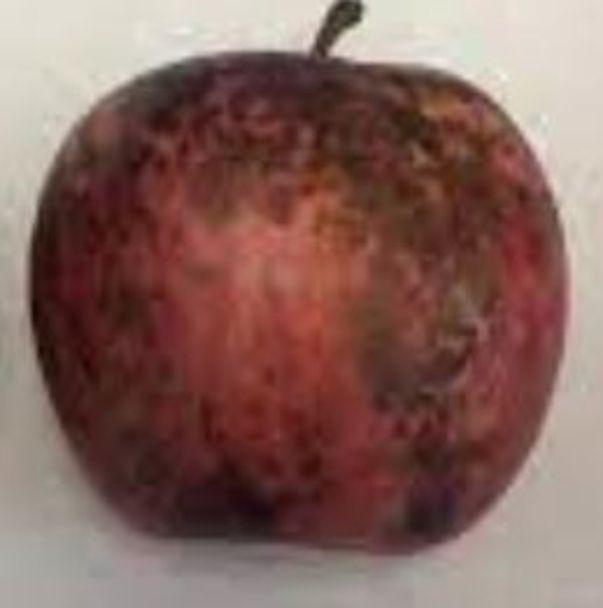BLOTCH: (27, 34, 556, 602)
